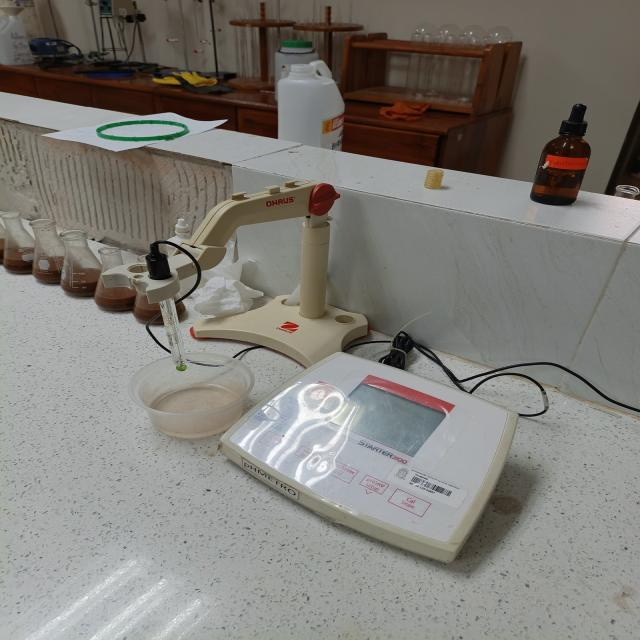Potenciometro - pH-metro Digital de Mesa: (102, 180, 517, 562)
